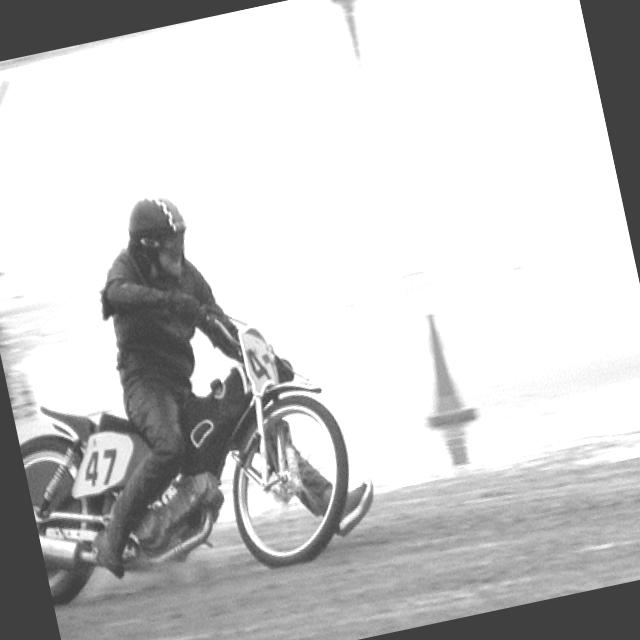Vehicle: (0, 284, 367, 614)
